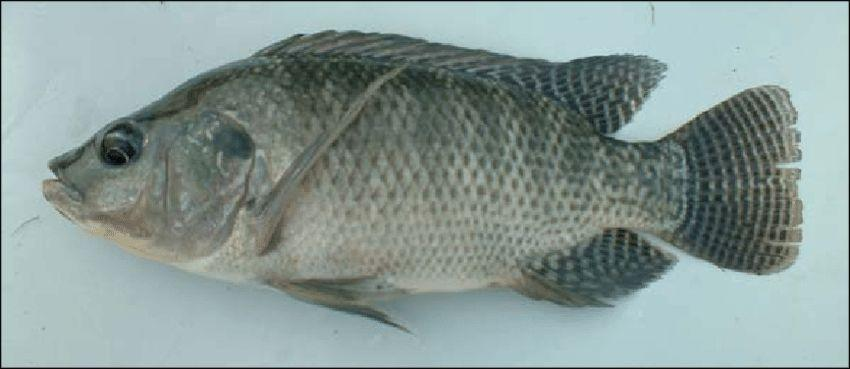Tilapia: (40, 24, 809, 337)
